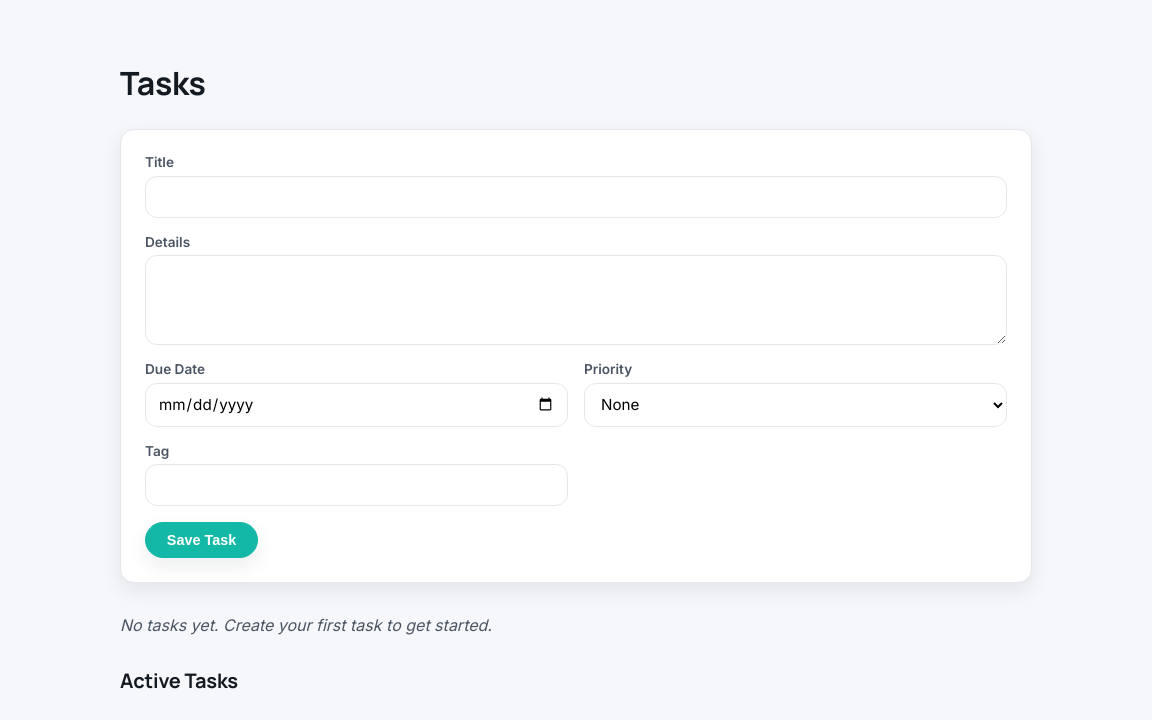
Test: Task experience (US-001 + US-002 + US-003 + US-004) › blocks creation when title is empty and shows inline validation
This screenshot has width=1152, height=720.
Click the button "Save Task". click: (201, 540)
box: [145,522,258,558]
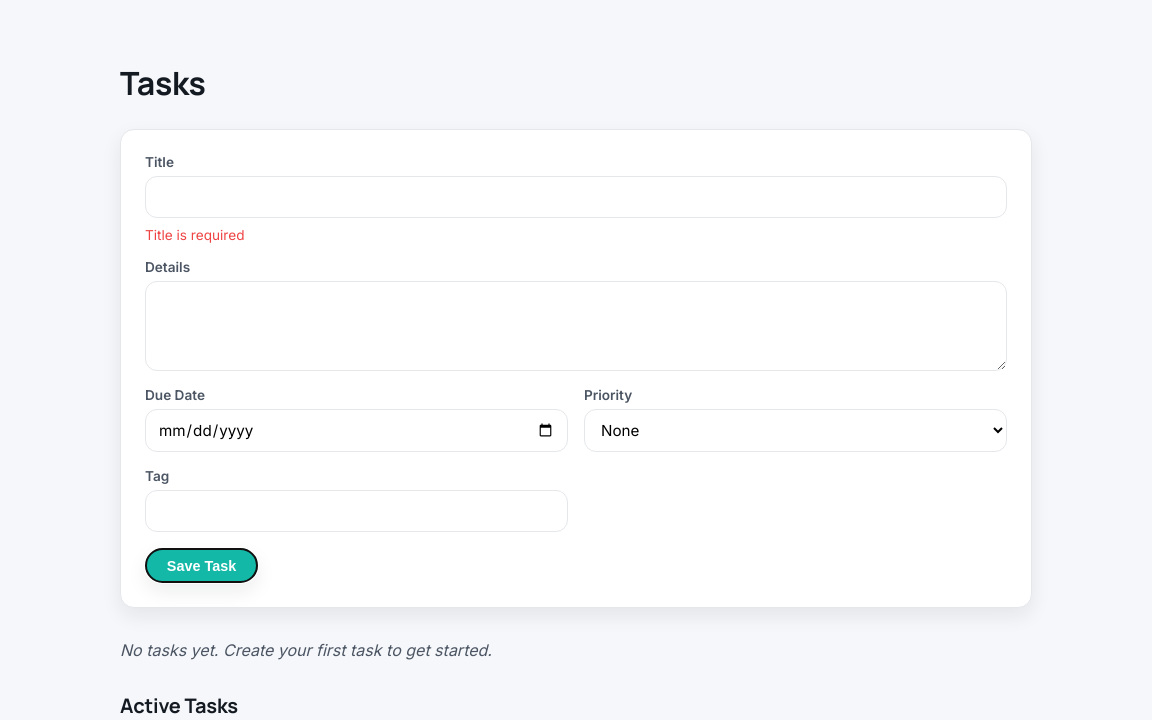
Expected: the message reads "Title is required", [145,227,244,243]
